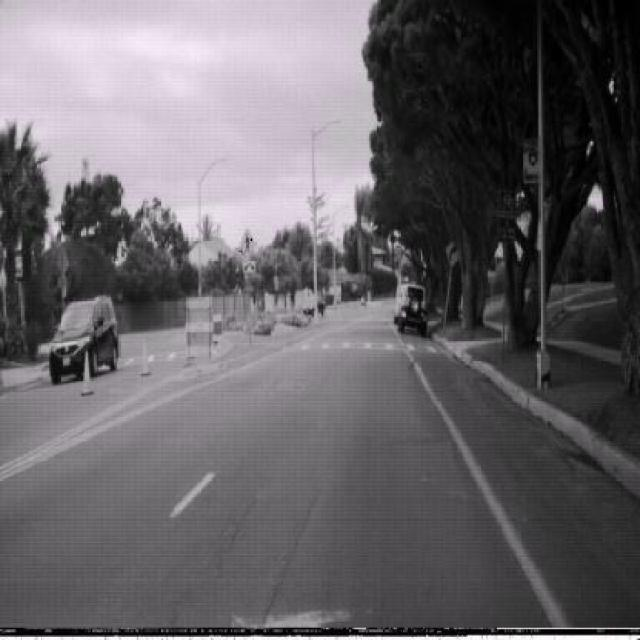pedestrianCrossing: (240, 226, 258, 263)
